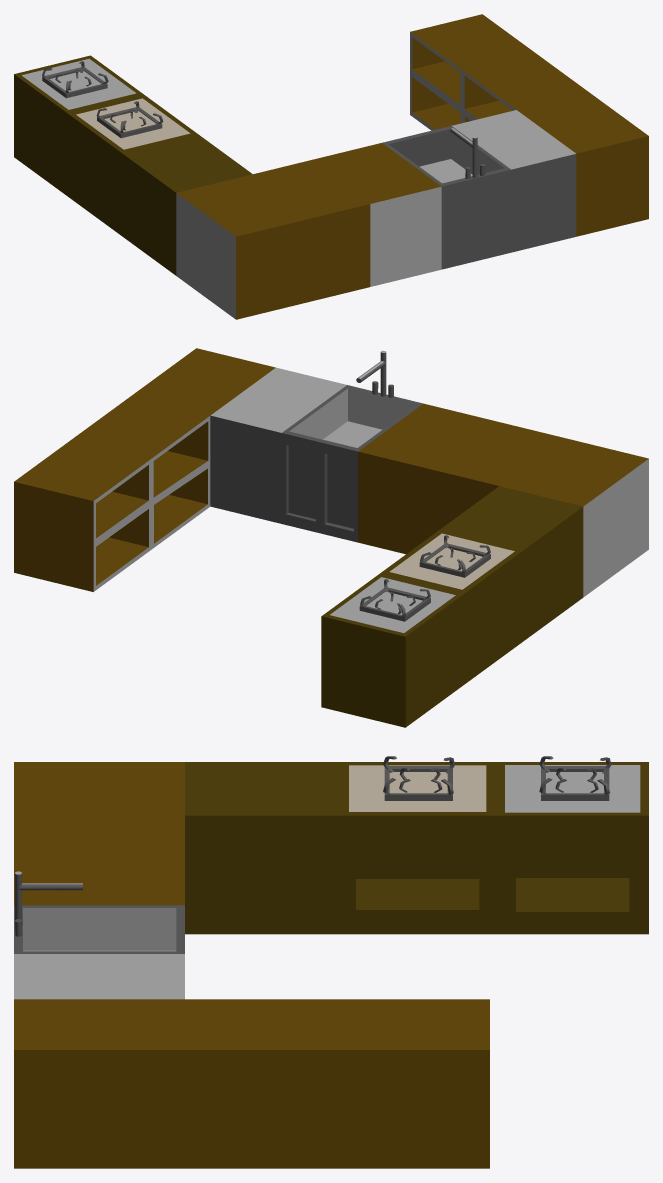
File: tabel (1).fbx
3 views of the same model, one above another, from view 1: azimuth 30°, elevation 25°; view 2: azimuth 150°, elevation 25°; view 3: azimuth 270°, elevation 25° (orthographic). The views are drawn at different scales.
Visible parts, largest first — view 1: pCube20; view 2: pCube20; view 3: pCube20.
Boxes of the visible parts, <box> form: pCube20: <box>14,14,648,319</box>; pCube20: <box>14,348,648,727</box>; pCube20: <box>14,756,648,1168</box>.
Bounding box in the file's own units: 9.97 × 2.83 × 9.29.
